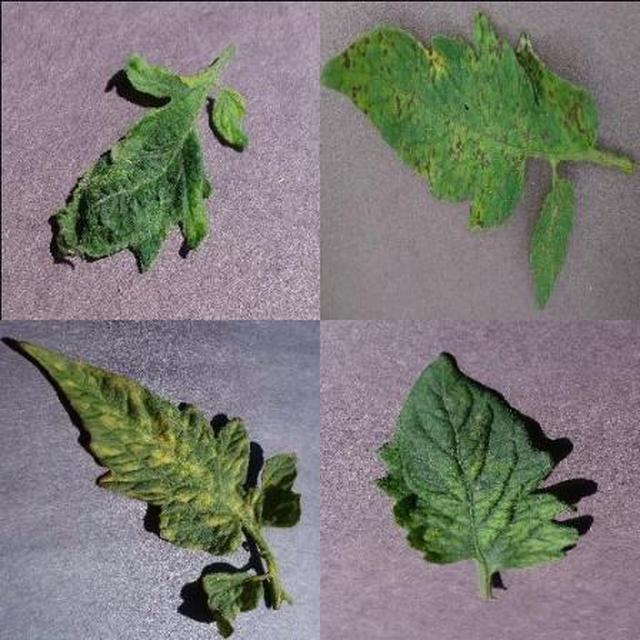Mosaic Virus Leaf: (218, 167, 640, 640)
